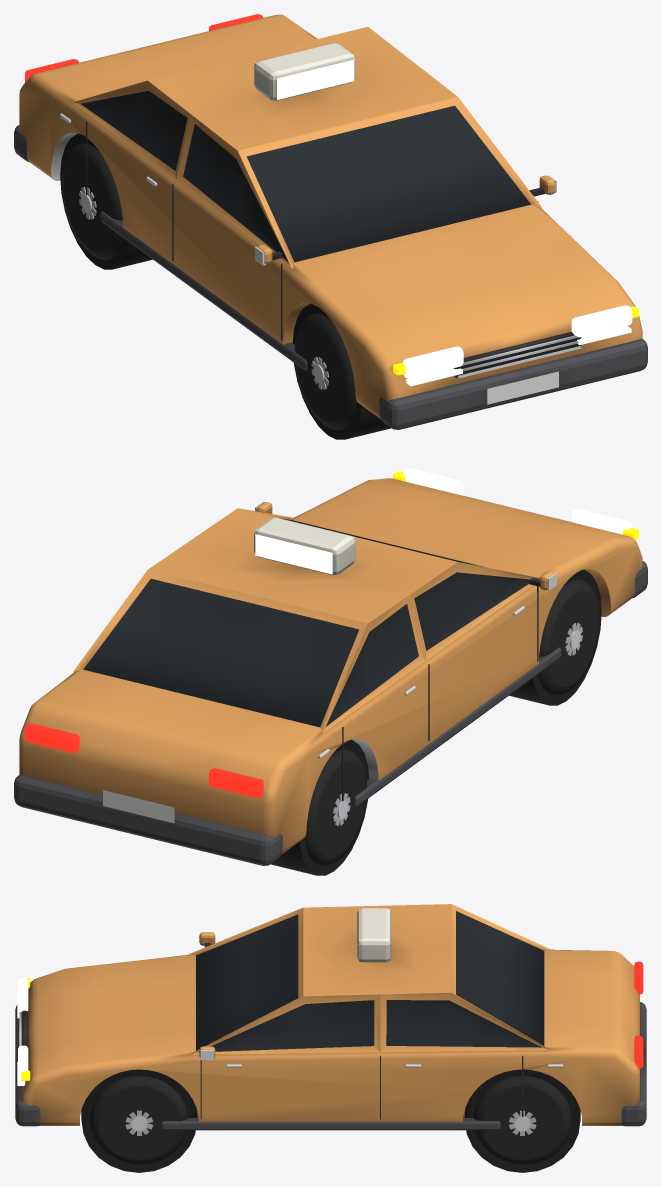
File: car_taxi.glb
3 renders of one model, top to bottom at view 1: azimuth 30°, elevation 25°; view 2: azimuth 150°, elevation 25°; view 3: azimuth 270°, elevation 25°, orthographic. The views are drawn at different scales.
Parts seen in each view (by area): view 1: body, w_FL, w_RL, sign_taxi; view 2: body, w_RL, w_FL, sign_taxi2; view 3: body, w_FR, w_RR.
Part boxes in pixels (bbox=[...]): body: bbox=[14, 14, 647, 439]; w_FL: bbox=[294, 313, 356, 429]; w_RL: bbox=[62, 143, 123, 259]; sign_taxi: bbox=[277, 59, 354, 99]; body: bbox=[14, 468, 647, 875]; w_RL: bbox=[305, 749, 367, 865]; w_FL: bbox=[538, 579, 599, 695]; sign_taxi2: bbox=[255, 534, 332, 574]; body: bbox=[15, 904, 646, 1172]; w_FR: bbox=[90, 1076, 188, 1165]; w_RR: bbox=[473, 1076, 571, 1165].
Bounding box in the file's own units: 2.13 × 1.69 × 4.82.
